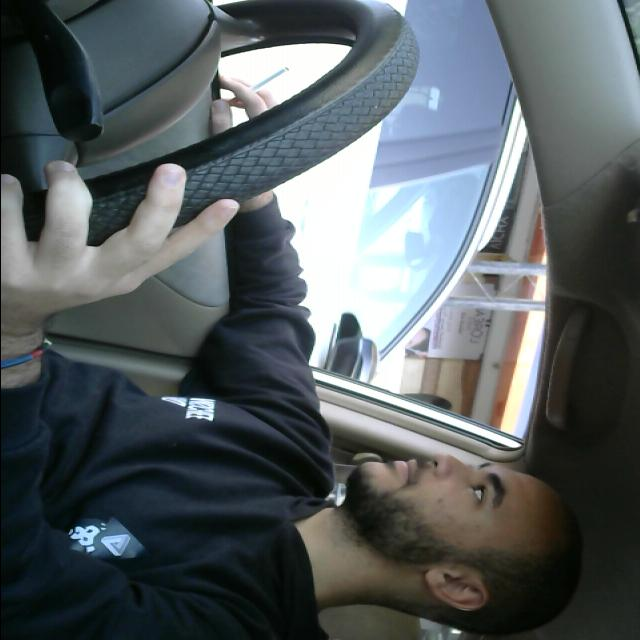smoking: (212, 64, 304, 110)
